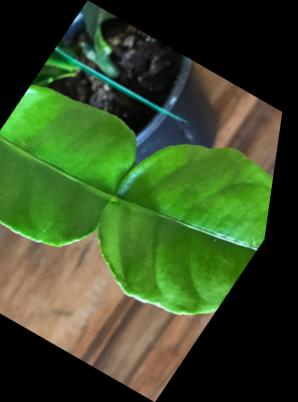Healthy Citrus: (0, 60, 291, 333), (73, 116, 285, 331), (0, 76, 163, 259)
